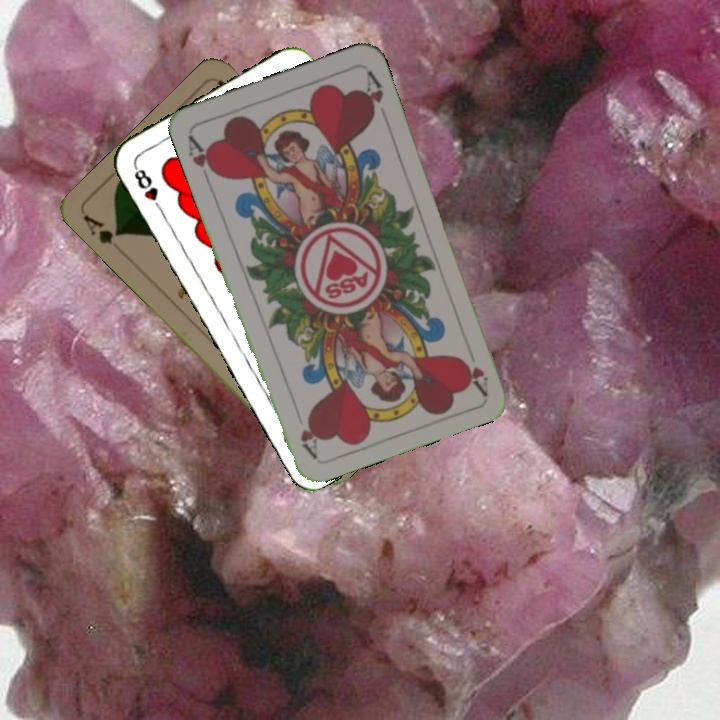GA: (79, 211, 124, 248)
H8: (129, 161, 166, 215)
HA: (184, 131, 221, 188), (456, 339, 491, 397)
